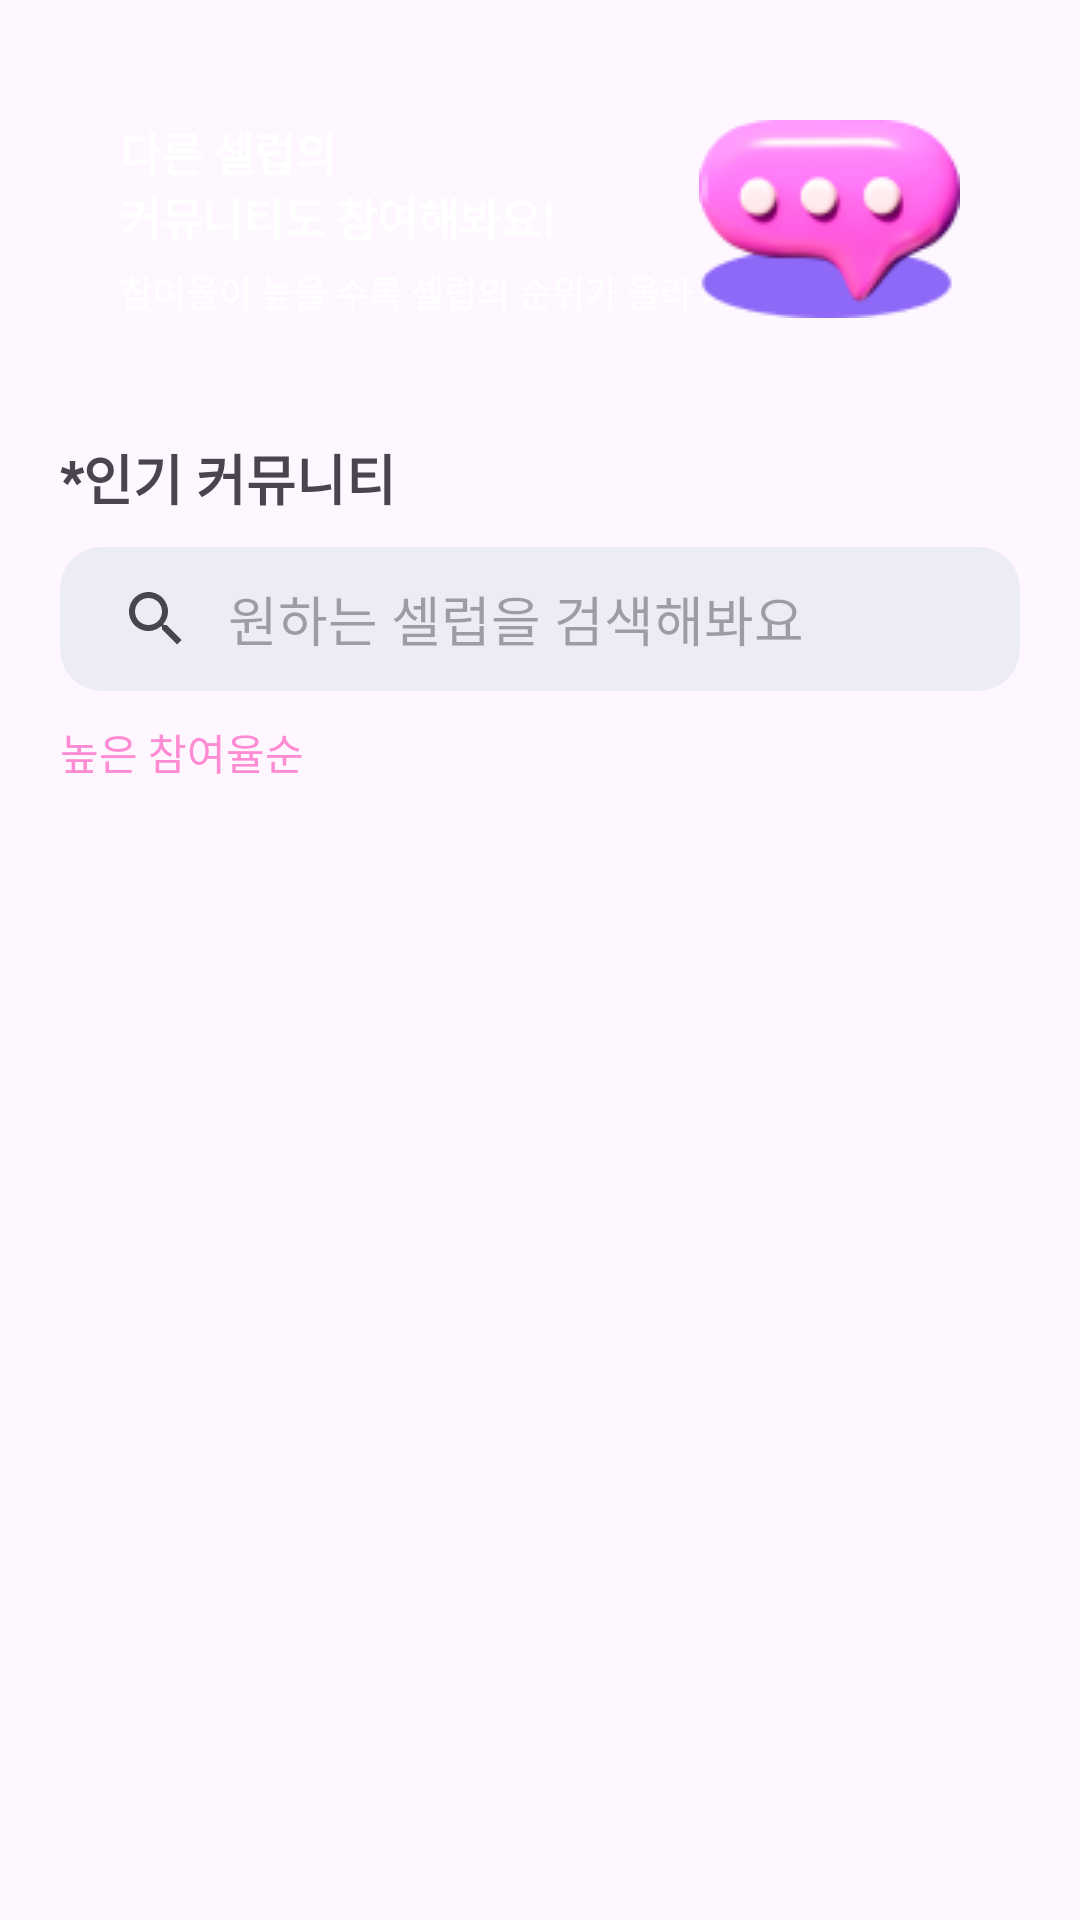

Icon bounding boxes for this 1080 x 1920 phone screenshot, format [x1,y1,x2,y2]:
speech bubble: [699,120,960,318]
